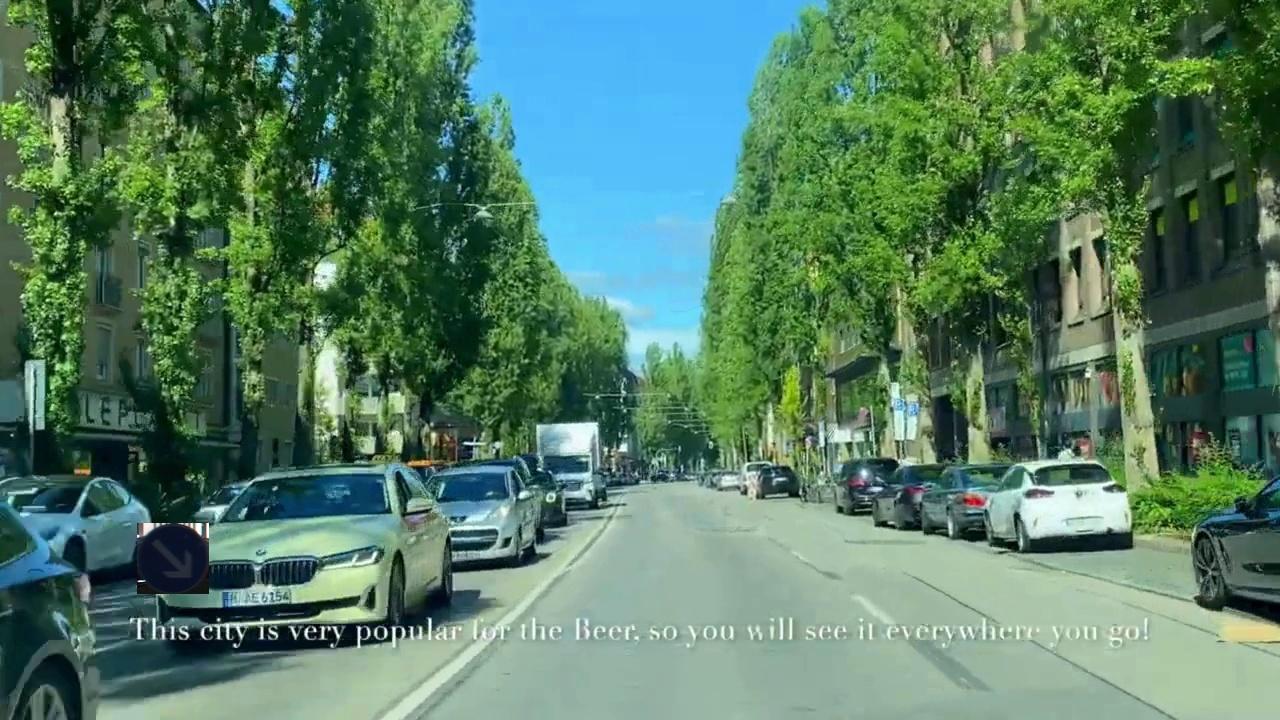Keep right: (137, 523, 209, 594)
